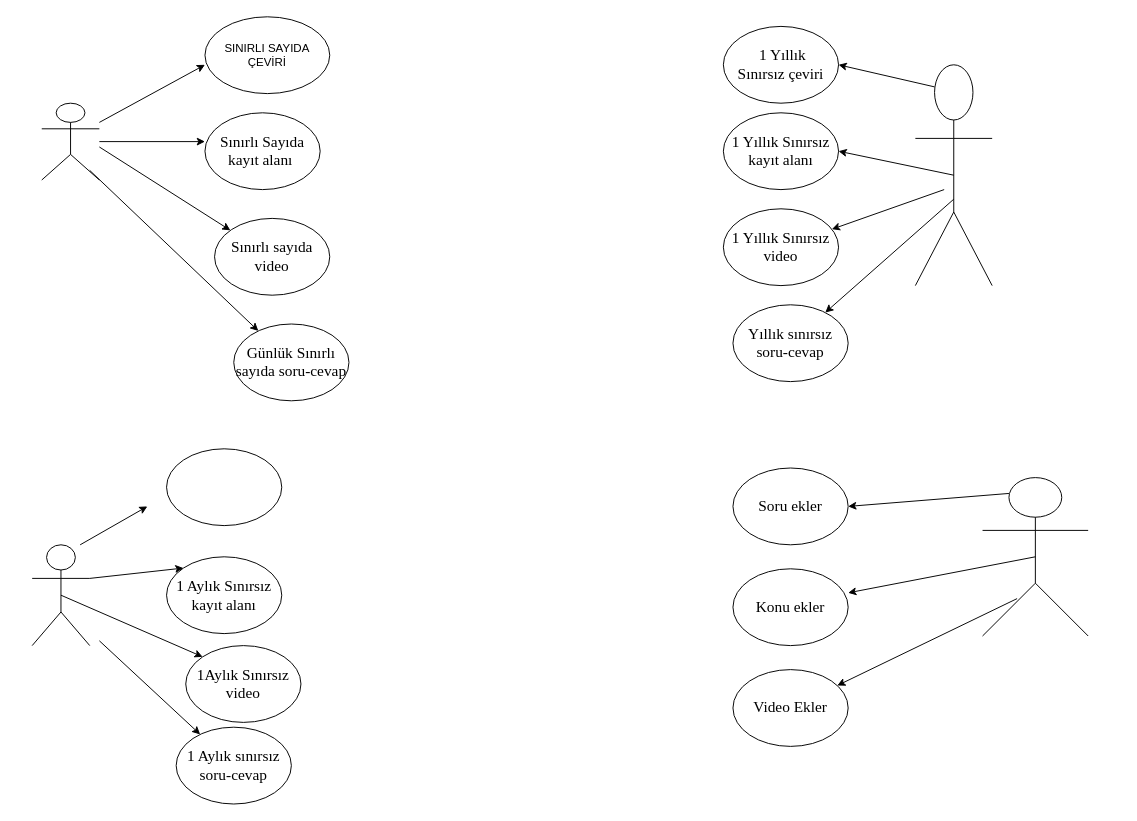
Some shapes in this 1137 by 821 pixel diagram are drawn without their labels. Each missing label, with the box of its shape:
1 Aylık Sınırsız çeviri: (166, 448, 282, 526)
Aylık Üye: (31, 544, 90, 646)
Normal Kullanıcı: (41, 102, 99, 180)
Premium Üye: (914, 64, 992, 286)
Uygulama İçerik Üreticileri: (982, 477, 1088, 636)
